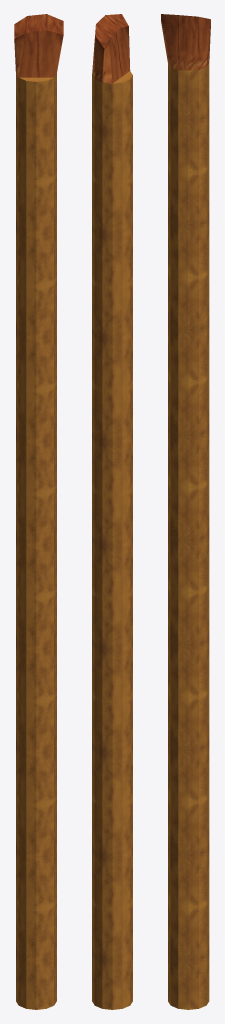
The model's file is dogeArm.fbx.
The picture shows the model from 3 angles, left to right: view 1: azimuth 90°, elevation 25°; view 2: azimuth 150°, elevation 25°; view 3: azimuth 270°, elevation 25°; orthographic projection.
Visible parts, largest first — view 1: dogeArm, dogePaw; view 2: dogeArm, dogePaw; view 3: dogeArm, dogePaw.
Boxes of the visible parts, bbox=[...] form: dogeArm: bbox=[16, 73, 56, 1009]; dogePaw: bbox=[14, 14, 63, 77]; dogeArm: bbox=[92, 71, 132, 1009]; dogePaw: bbox=[92, 14, 130, 83]; dogeArm: bbox=[168, 63, 209, 1009]; dogePaw: bbox=[161, 14, 210, 70].
Bounding box in the file's own units: 0.08 × 2.11 × 0.0965.
